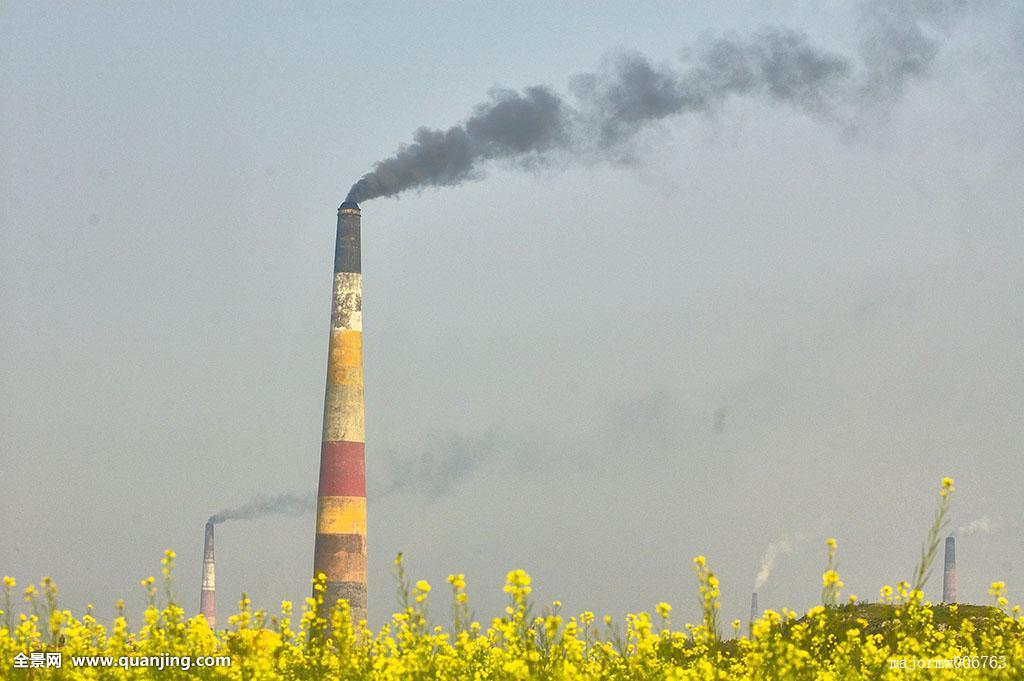dust: (332, 73, 617, 220)
